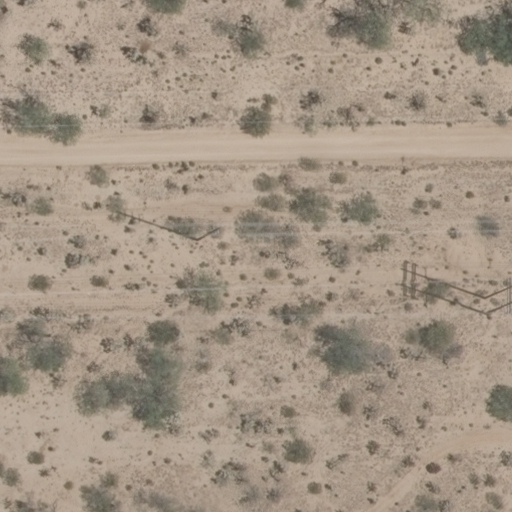DT: (195, 223, 220, 242)
TT: (481, 280, 512, 316)
